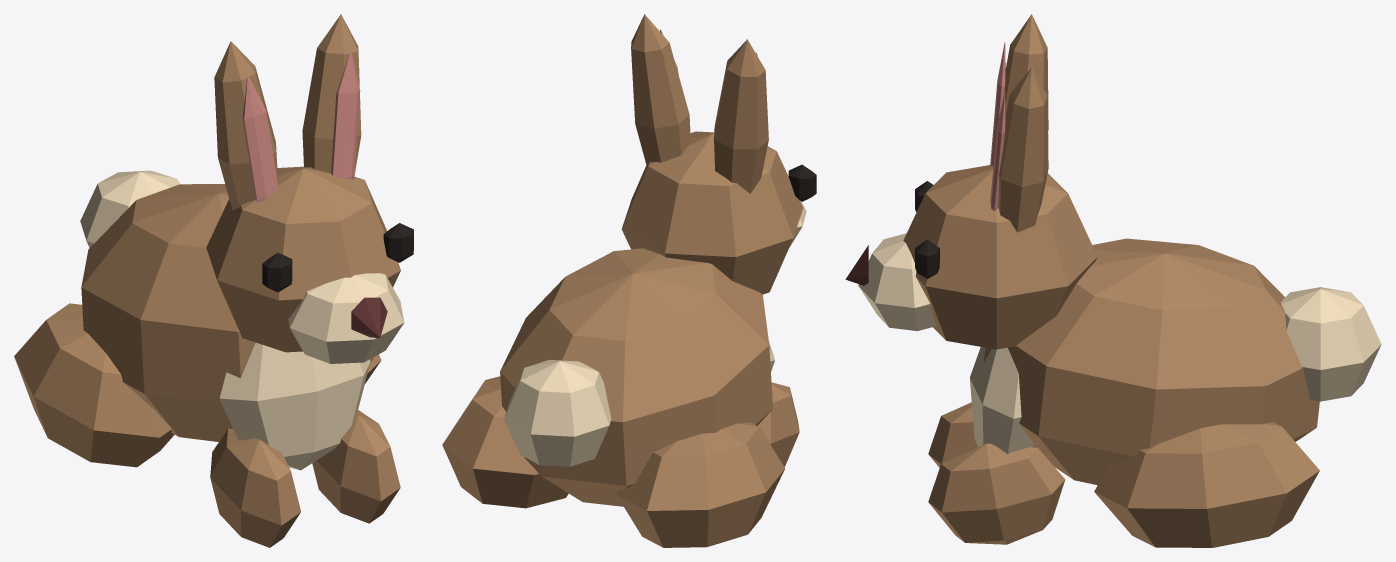
Rendered from rabbit_prey.glb.
The picture shows the model from 3 angles, left to right: view 1: azimuth 30°, elevation 25°; view 2: azimuth 150°, elevation 25°; view 3: azimuth 270°, elevation 25°; orthographic projection. The views are drawn at different scales.
Visible parts, largest first — view 1: Rabbit_Fur, Rabbit_Pale_Fur, Inner_Ears, Eyes, Nose; view 2: Rabbit_Fur, Rabbit_Pale_Fur, Eyes; view 3: Rabbit_Fur, Rabbit_Pale_Fur, Inner_Ears, Eyes.
Part boxes in pixels (bbox=[...]): Rabbit_Fur: bbox=[14, 14, 400, 547]; Rabbit_Pale_Fur: bbox=[80, 170, 404, 470]; Inner_Ears: bbox=[242, 50, 360, 202]; Eyes: bbox=[262, 223, 413, 292]; Nose: bbox=[351, 297, 387, 338]; Rabbit_Fur: bbox=[442, 14, 803, 547]; Rabbit_Pale_Fur: bbox=[504, 201, 806, 466]; Eyes: bbox=[788, 164, 816, 201]; Rabbit_Fur: bbox=[903, 14, 1319, 547]; Rabbit_Pale_Fur: bbox=[858, 233, 1381, 454]; Inner_Ears: bbox=[990, 42, 1005, 211]; Eyes: bbox=[915, 181, 939, 278].
Bounding box in the file's own units: 0.8888 × 1.26 × 1.28.
